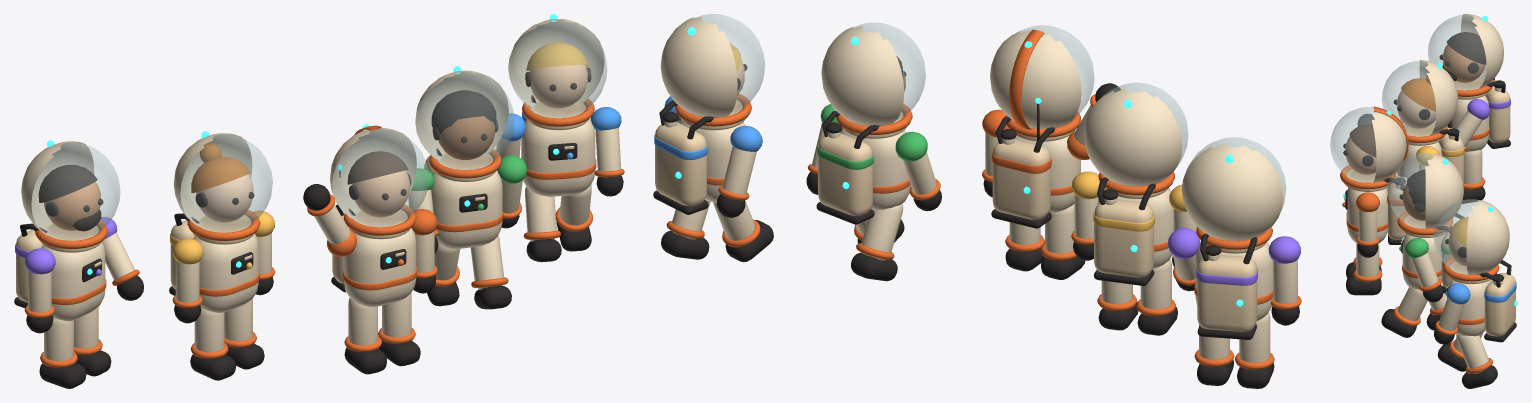
Rendered from astro-a-crew.glb.
3 views of the same model, side by side, from view 1: azimuth 30°, elevation 25°; view 2: azimuth 150°, elevation 25°; view 3: azimuth 270°, elevation 25° (orthographic). The views are drawn at different scales.
Visible parts, largest first — view 1: body, body.004, body.003, body.002, body.001, leg_r.001, leg_r, leg_r.003, arm_l.004, arm_r.001, leg_l.002, leg_r.004 (+13 smaller); view 2: body.002, body, body.001, body.003, body.004, leg_r.002, arm_r.004, arm_r.003, arm_r.002, leg_r, leg_r.001, leg_r.003 (+11 smaller); view 3: body.004, body, body.003, body.002, body.001, leg_l.004, leg_l.002, arm_l.002, arm_l, arm_l.004, leg_l, leg_l.003 (+5 smaller).
Part boxes in pixels (x1,y1,x2,y2): body: [330, 124, 428, 306]; body.004: [508, 14, 607, 196]; body.003: [14, 140, 120, 321]; body.002: [415, 66, 514, 249]; body.001: [169, 131, 272, 312]; leg_r.001: [190, 308, 235, 380]; leg_r: [344, 298, 386, 374]; leg_r.003: [39, 318, 86, 388]; arm_l.004: [590, 107, 624, 196]; arm_r.001: [172, 238, 203, 323]; leg_l.002: [470, 235, 511, 309]; leg_r.004: [523, 186, 561, 262]; body.002: [816, 22, 925, 224]; body: [990, 25, 1094, 228]; body.001: [1084, 82, 1188, 285]; body.003: [1181, 137, 1286, 339]; body.004: [653, 14, 765, 214]; leg_r.002: [851, 203, 903, 281]; arm_r.004: [717, 125, 762, 217]; arm_r.003: [1268, 236, 1301, 325]; arm_r.002: [895, 131, 941, 211]; leg_r: [1040, 203, 1085, 279]; leg_r.001: [1136, 259, 1177, 335]; leg_r.003: [1235, 312, 1274, 388]; body.004: [1433, 199, 1517, 342]; body: [1330, 106, 1408, 244]; body.003: [1428, 14, 1510, 152]; body.002: [1387, 153, 1464, 293]; body.001: [1381, 60, 1464, 193]; leg_l.004: [1456, 335, 1497, 388]; leg_l.002: [1381, 287, 1427, 337]; arm_l.002: [1405, 238, 1443, 302]; arm_l: [1356, 192, 1379, 257]; arm_l.004: [1434, 283, 1470, 344]; leg_l: [1346, 243, 1382, 295]; leg_l.003: [1462, 149, 1485, 203].
Size of the model in its own units: 4.62 by 1.72 by 1.64.
